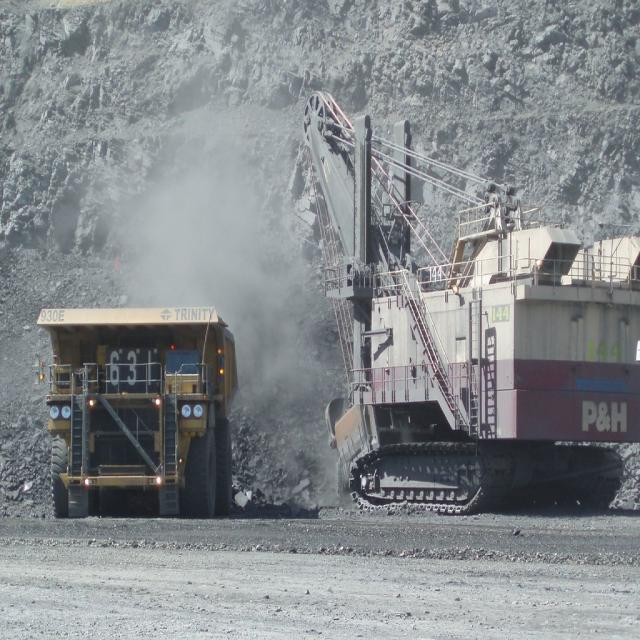dump_truck: (35, 288, 263, 558)
